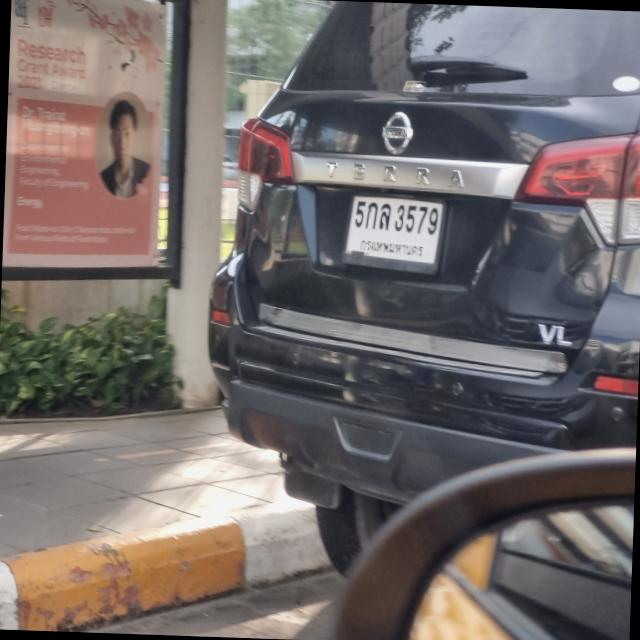license_plate: (342, 186, 448, 275)
